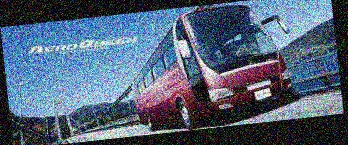bus: (126, 0, 296, 133)
